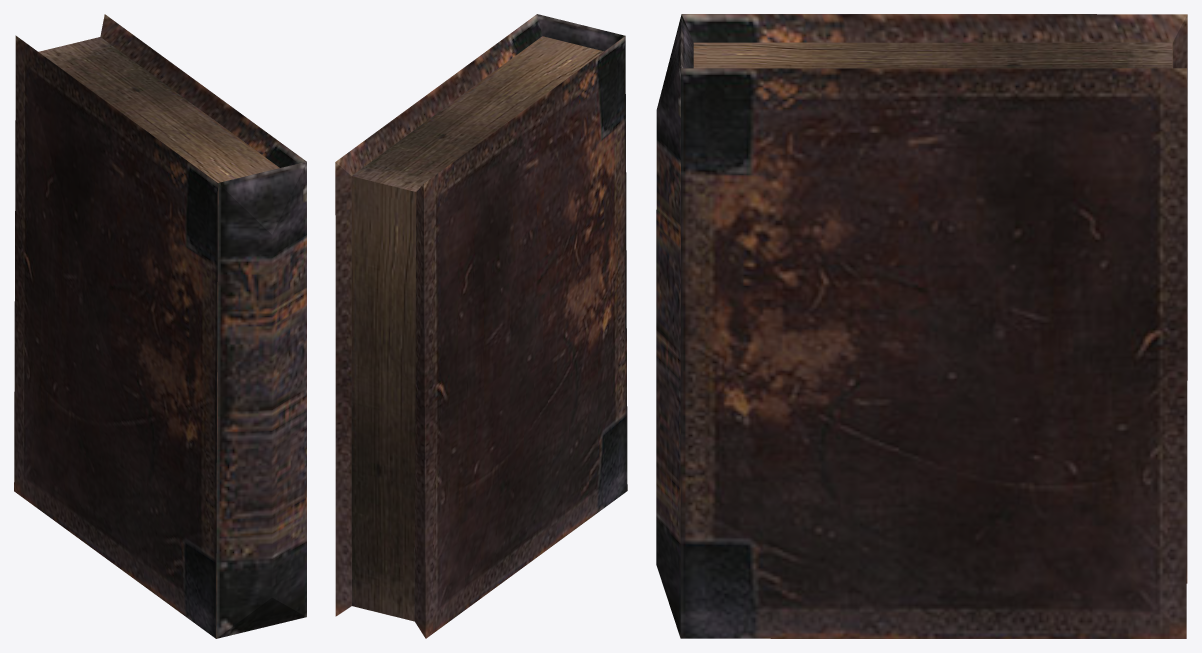
Rendered from book.obj.
3 renders of one model, left to right at view 1: azimuth 30°, elevation 25°; view 2: azimuth 150°, elevation 25°; view 3: azimuth 270°, elevation 25°, orthographic. The views are drawn at different scales.
Visible parts, largest first — view 1: Mesh_skin; view 2: Mesh_skin; view 3: Mesh_skin.
Part boxes in pixels (box(x1,y1,x2,y2)): Mesh_skin: box(14, 14, 306, 638); Mesh_skin: box(335, 14, 627, 638); Mesh_skin: box(656, 14, 1187, 638).
Size of the model in its own units: 0.2706 by 1.08 by 0.9101.
1 material, 1 textured.
